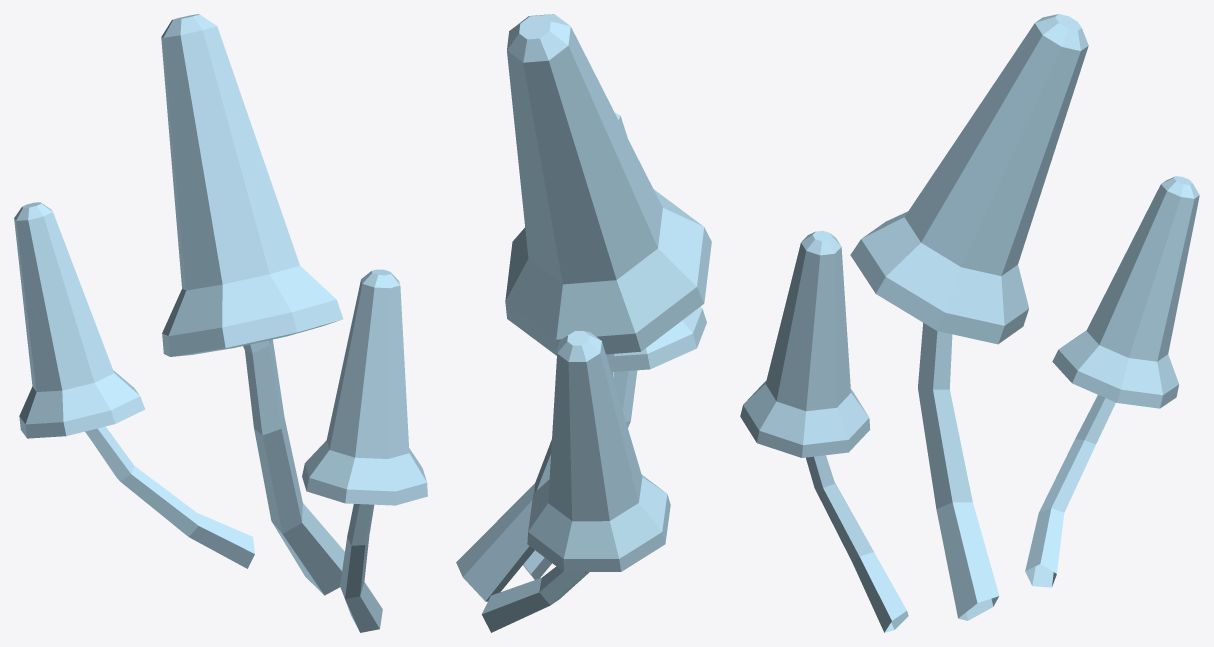
File: Mushrooms_09.fbx
3 views of the same model, side by side, from view 1: azimuth 30°, elevation 25°; view 2: azimuth 150°, elevation 25°; view 3: azimuth 270°, elevation 25° (orthographic). The views are drawn at different scales.
Parts seen in each view (by area): view 1: Mushrooms_09; view 2: Mushrooms_09; view 3: Mushrooms_09.
Boxes of the visible parts, bbox=[...] form: Mushrooms_09: bbox=[14, 14, 427, 632]; Mushrooms_09: bbox=[456, 14, 711, 632]; Mushrooms_09: bbox=[740, 14, 1199, 632].
Bounding box in the file's own units: 0.5177 × 0.8279 × 1.14.
